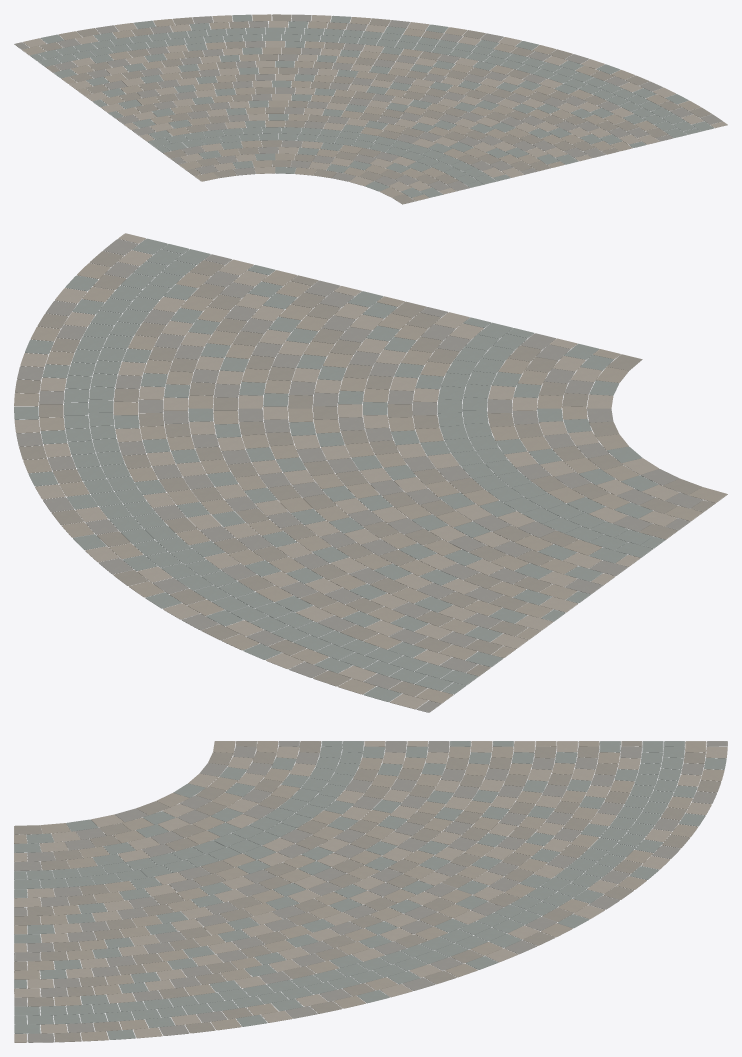
Rendered from paving.fbx.
3 renders of one model, top to bottom at view 1: azimuth 30°, elevation 25°; view 2: azimuth 150°, elevation 25°; view 3: azimuth 270°, elevation 25°, orthographic. The views are drawn at different scales.
Visible parts, largest first — view 1: PavingQuarter; view 2: PavingQuarter; view 3: PavingQuarter.
Boxes of the visible parts, x1,y1,x2,y2 form: PavingQuarter: (14, 14, 727, 204); PavingQuarter: (14, 233, 727, 712); PavingQuarter: (14, 741, 727, 1042).
Bounding box in the file's own units: 26691 × 7.5 × 26691.
Materials: 1 (1 with a texture image).
